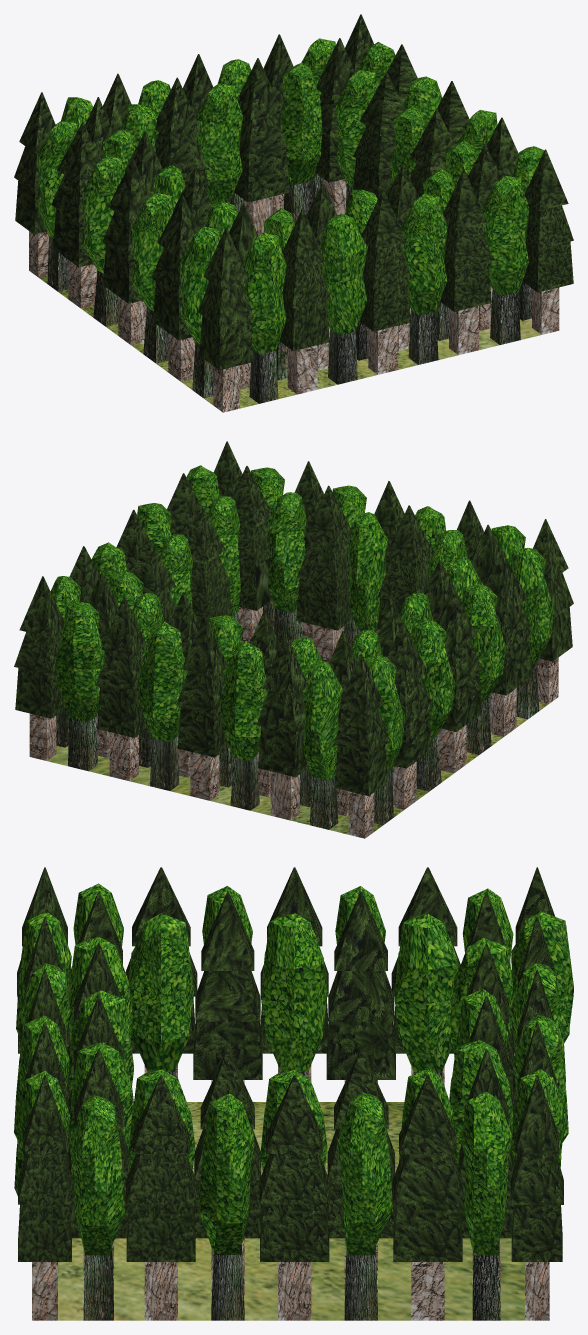
Rendered from Skybox_2_forest.fbx.
3 renders of one model, top to bottom at view 1: azimuth 30°, elevation 25°; view 2: azimuth 150°, elevation 25°; view 3: azimuth 270°, elevation 25°, orthographic. The views are drawn at different scales.
Visible parts, largest first — view 1: Plane; view 2: Plane; view 3: Plane.
Boxes of the visible parts, box(x1,y1,x2,y2) form: Plane: box(14, 14, 573, 412); Plane: box(14, 441, 573, 838); Plane: box(14, 867, 573, 1320).
Bounding box in the file's own units: 216 × 222 × 102.
